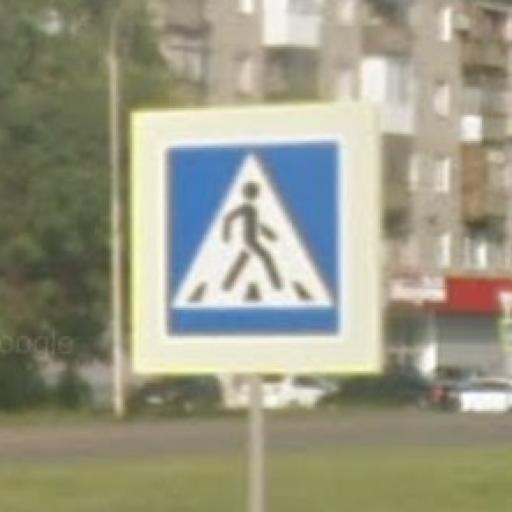traffic_sign: (132, 100, 387, 381)
